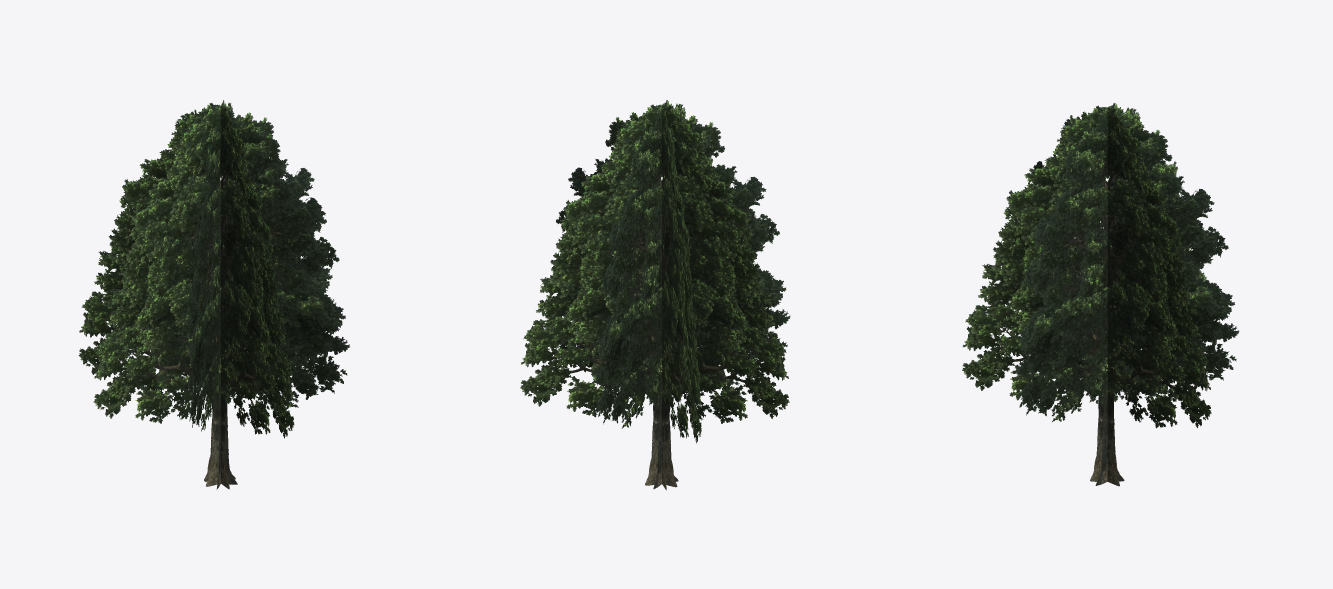
File: Tree_06_STATIC.fbx
3 renders of one model, left to right at view 1: azimuth 30°, elevation 25°; view 2: azimuth 150°, elevation 25°; view 3: azimuth 270°, elevation 25°, orthographic.
Visible parts, largest first — view 1: Tree_06; view 2: Tree_06; view 3: Tree_06.
Boxes of the visible parts, <box> form: Tree_06: <box>78,100,349,489</box>; Tree_06: <box>520,100,790,490</box>; Tree_06: <box>962,103,1239,486</box>.
Size of the model in its own units: 1420 by 1420 by 1420.
